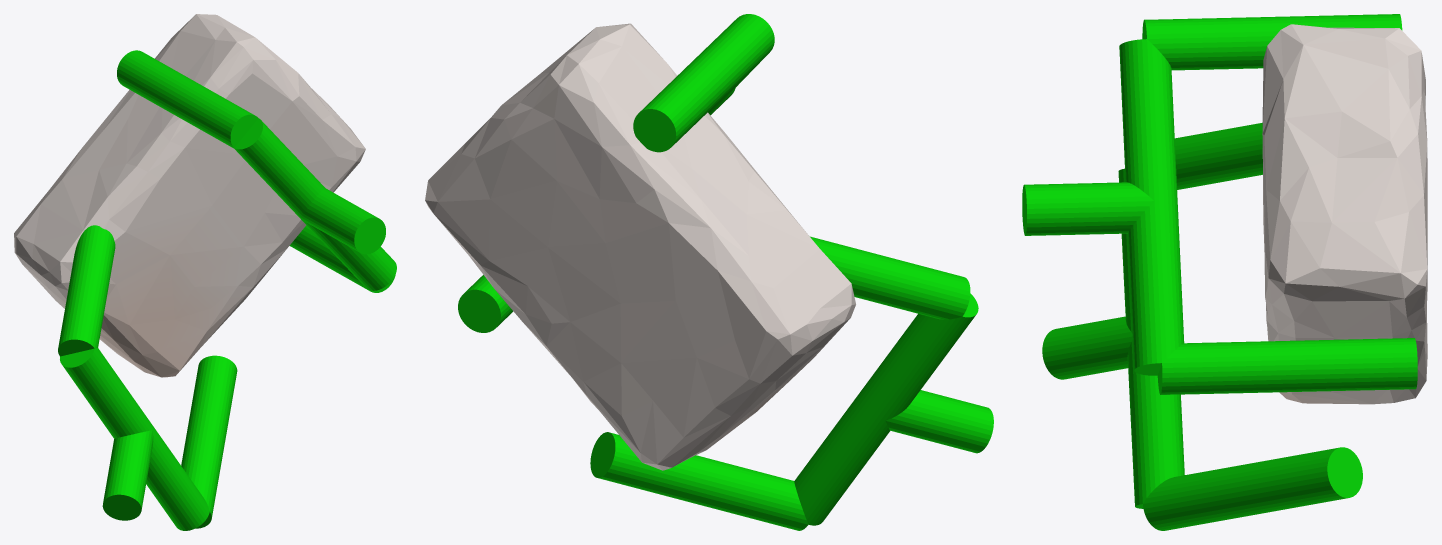
The model's file is round_001_trial_000.obj.
3 views of the same model, side by side, from view 1: azimuth 30°, elevation 25°; view 2: azimuth 150°, elevation 25°; view 3: azimuth 270°, elevation 25° (orthographic). The views are drawn at different scales.
Visible parts, largest first — view 1: geometry_0, geometry_1, geometry_2; view 2: geometry_0, geometry_1, geometry_2; view 3: geometry_0, geometry_2, geometry_1.
Boxes of the visible parts, x1,y1,x2,y2 form: geometry_0: (14, 14, 365, 377); geometry_1: (58, 225, 237, 530); geometry_2: (117, 50, 396, 292); geometry_0: (425, 23, 855, 470); geometry_1: (590, 236, 993, 530); geometry_2: (458, 14, 774, 332); geometry_0: (1262, 24, 1427, 404); geometry_2: (1022, 14, 1417, 394); geometry_1: (1042, 122, 1362, 530).
Size of the model in its own units: 0.105 by 0.121 by 0.079.
